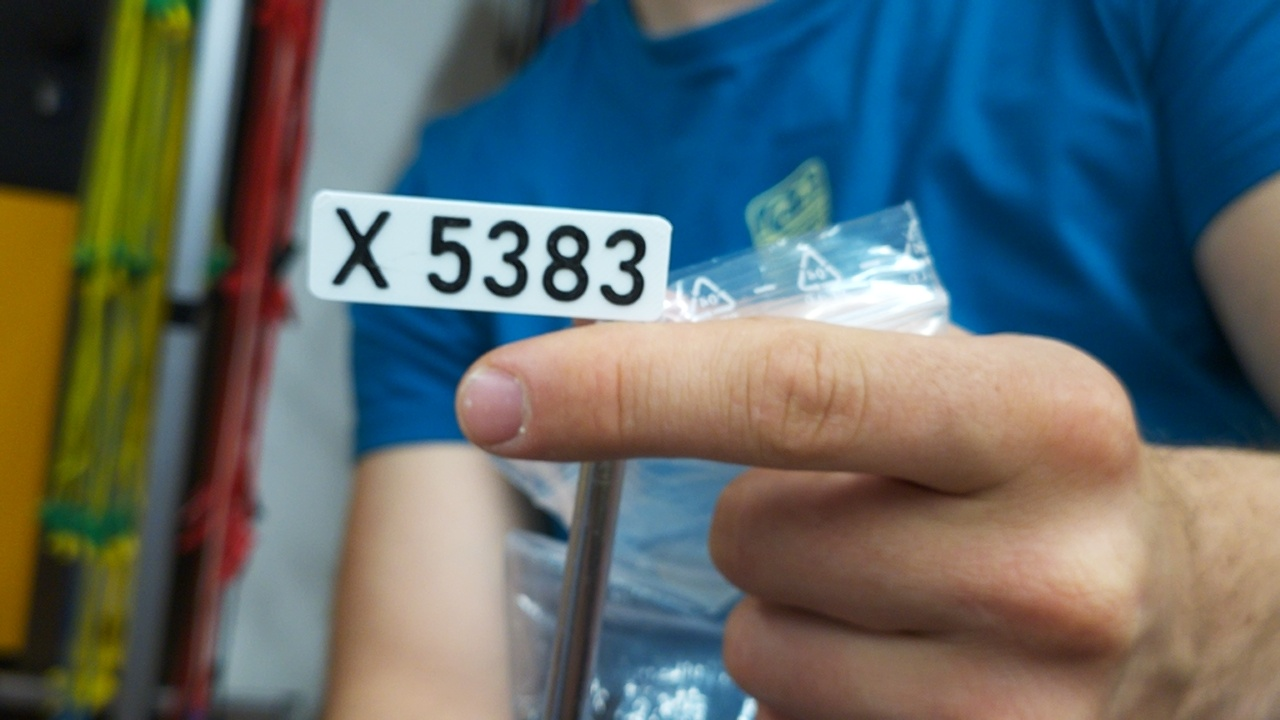license_plate: (307, 186, 672, 324)
